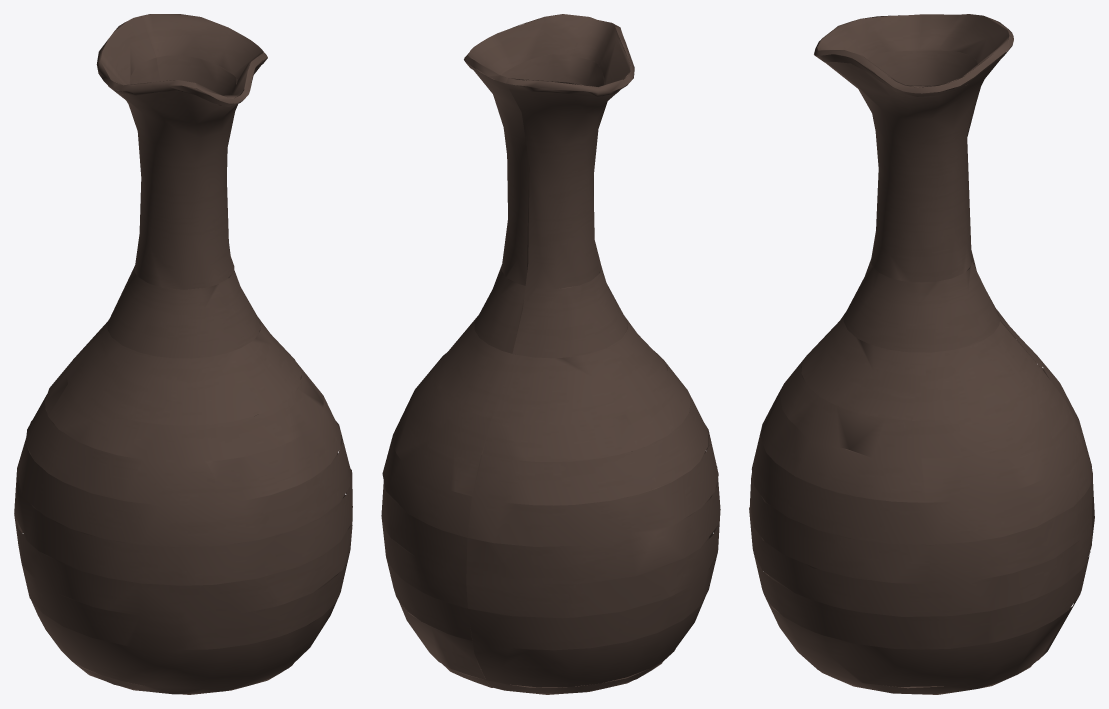
File: ph_vase.gltf
3 renders of one model, left to right at view 1: azimuth 30°, elevation 25°; view 2: azimuth 150°, elevation 25°; view 3: azimuth 270°, elevation 25°, orthographic.
Parts seen in each view (by area): view 1: ph_vase; view 2: ph_vase; view 3: ph_vase.
Part boxes in pixels (x1,y1,x2,y2): ph_vase: (14,14,352,694); ph_vase: (381,14,720,694); ph_vase: (749,14,1094,694).
Bounding box in the file's own units: 0.2047 × 0.4005 × 0.2046.
Materials: 1 (1 with a texture image).
